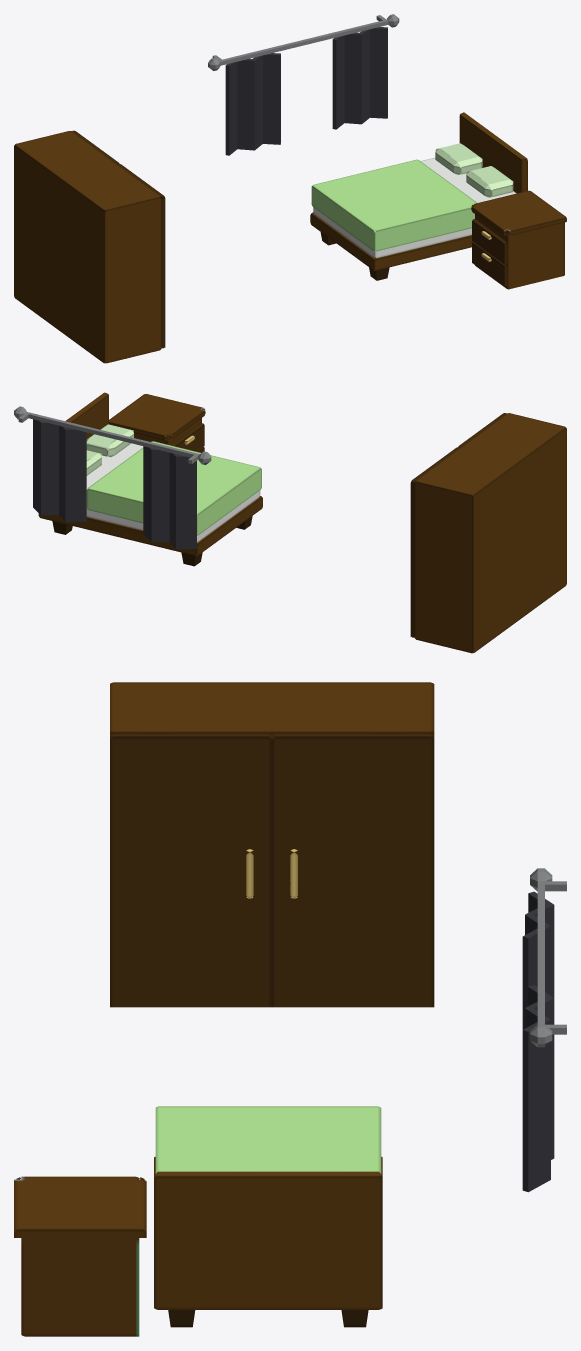
File: Bedroom.fbx
3 renders of one model, top to bottom at view 1: azimuth 30°, elevation 25°; view 2: azimuth 150°, elevation 25°; view 3: azimuth 270°, elevation 25°, orthographic. The views are drawn at different scales.
Parts seen in each view (by area): view 1: Closet, Blanket, Bed, Bedside Drawers, Curtain2, Curtain, Curtain Holder, Pillow_1, Pillow, Closet Door, Drawer, Drawer_1; view 2: Closet, Blanket, Bed, Curtain2, Curtain, Bedside Drawers, Curtain Holder, Closet Door_1, Pillow_1, Drawer; view 3: Closet Door_1, Closet Door, Bed, Bedside Drawers, Closet, Blanket, Curtain2, Curtain, Curtain Holder.
Boxes of the visible parts, x1=… form: Closet: x1=14, y1=131, x2=161, y2=363; Blanket: x1=311, y1=159, x2=476, y2=251; Bed: x1=310, y1=112, x2=527, y2=280; Bedside Drawers: x1=471, y1=190, x2=566, y2=289; Curtain2: x1=332, y1=27, x2=387, y2=129; Curtain: x1=225, y1=53, x2=280, y2=155; Curtain Holder: x1=208, y1=14, x2=399, y2=70; Pillow_1: x1=466, y1=166, x2=513, y2=197; Pillow: x1=435, y1=143, x2=482, y2=174; Closet Door: x1=118, y1=164, x2=165, y2=348; Drawer: x1=472, y1=219, x2=507, y2=264; Drawer_1: x1=472, y1=242, x2=507, y2=286; Closet: x1=414, y1=413, x2=566, y2=653; Blanket: x1=87, y1=441, x2=261, y2=535; Bed: x1=38, y1=392, x2=262, y2=566; Curtain2: x1=33, y1=414, x2=86, y2=522; Curtain: x1=143, y1=441, x2=196, y2=549; Bedside Drawers: x1=109, y1=394, x2=205, y2=445; Curtain Holder: x1=14, y1=406, x2=211, y2=464; Closet Door_1: x1=410, y1=447, x2=459, y2=637; Pillow_1: x1=86, y1=424, x2=133, y2=457; Drawer: x1=171, y1=423, x2=204, y2=451; Closet Door_1: x1=272, y1=733, x2=434, y2=1007; Closet Door: x1=110, y1=733, x2=271, y2=1007; Bed: x1=154, y1=1156, x2=382, y2=1327; Bedside Drawers: x1=14, y1=1176, x2=146, y2=1336; Closet: x1=110, y1=682, x2=434, y2=739; Blanket: x1=155, y1=1106, x2=381, y2=1173; Curtain2: x1=522, y1=985, x2=554, y2=1192; Curtain: x1=522, y1=891, x2=554, y2=1029; Curtain Holder: x1=530, y1=868, x2=566, y2=1047.
Size of the model in its own units: 762 by 269 by 469.
Materials: 5 (5 with a texture image).
